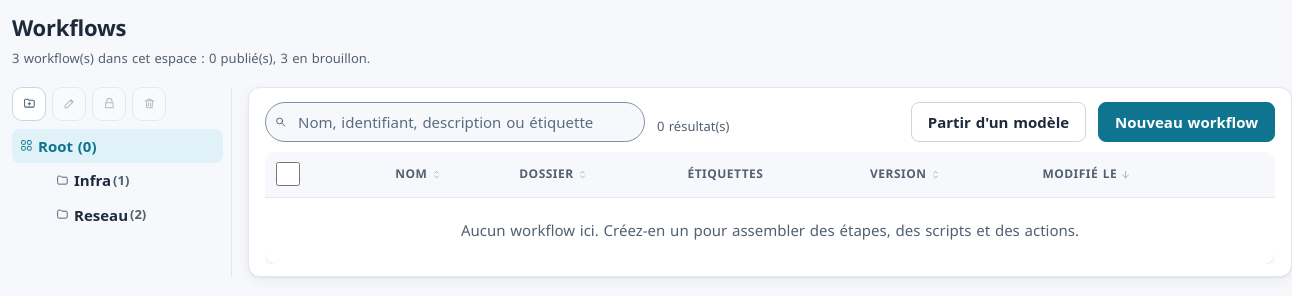
Test: Recherche dans une liste à arborescence › cherche dans tous les dossiers, par nom ou par identifiant, même quand un dossier est choisi
The width and height of the screenshot is (1292, 296).
Click the button "Infra (1)" at coordinates (136, 180), box [48, 163, 223, 198]
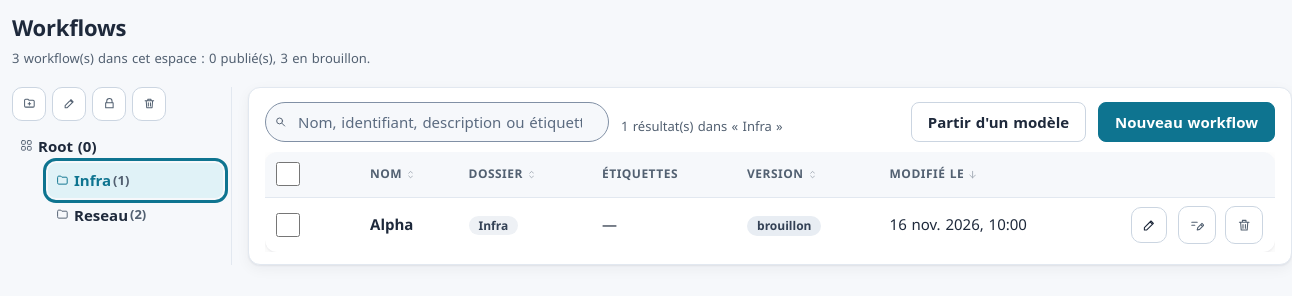
Expected: the text "Bravo" is not shown
Expected: the link "Alpha" is shown, [370, 214, 413, 234]
Type "bravo" into the search field named "Rechercher un workflow" at coordinates (437, 122), box [265, 102, 609, 142]
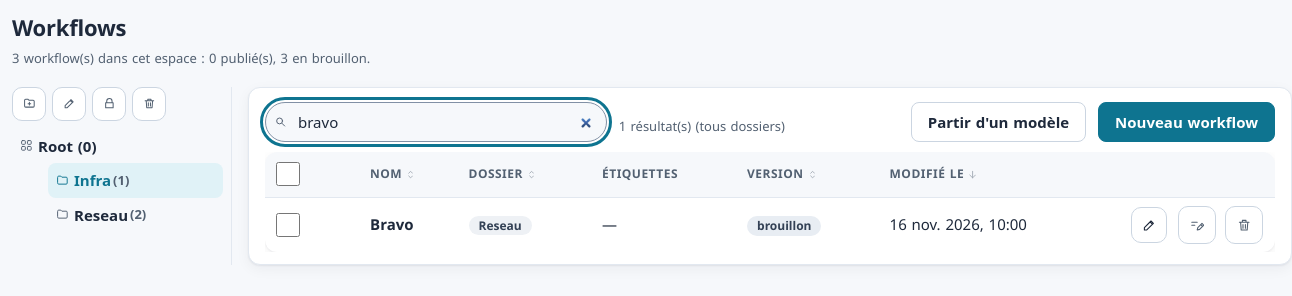
Expected: the link "Bravo" is shown, [370, 214, 414, 234]
Clear the search field named "Rechercher un workflow" at coordinates (436, 122), box [265, 102, 607, 142]
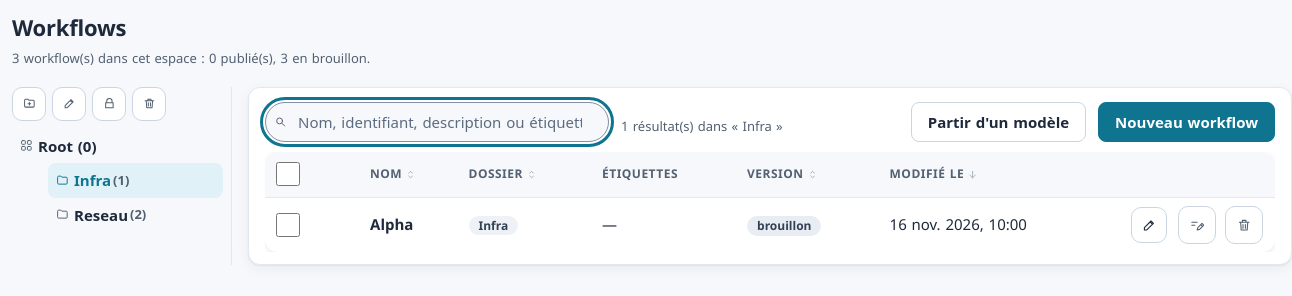
Type "charlie-flow" into the search field named "Rechercher un workflow" at coordinates (437, 122), box [265, 102, 609, 142]
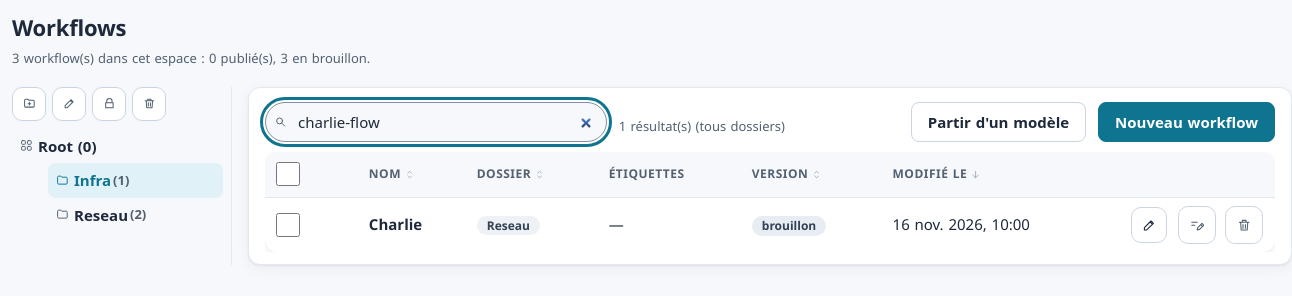
Expected: the link "Charlie" is shown, [369, 214, 422, 234]
Expected: the link "Alpha" is gone
Expected: the message shows "tous dossiers", [691, 116, 785, 134]
Clear the search field named "Rechercher un workflow" at coordinates (436, 122), box [265, 102, 607, 142]
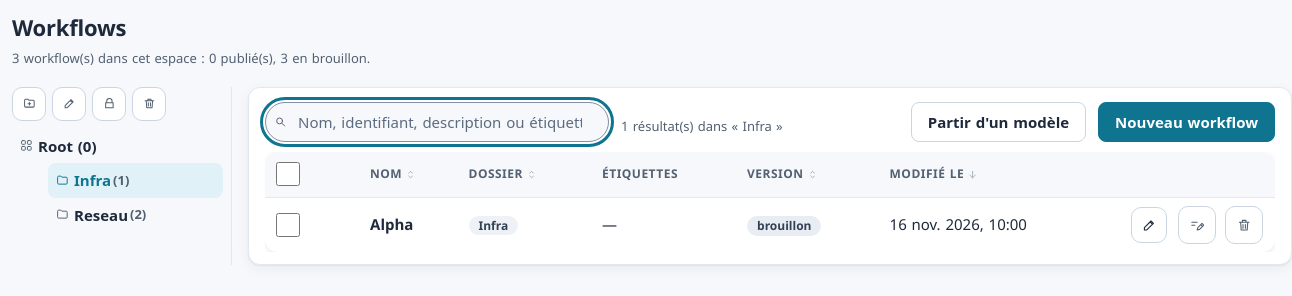
Expected: the link "Bravo" is not shown
Expected: the link "Alpha" is shown, [370, 214, 413, 234]
